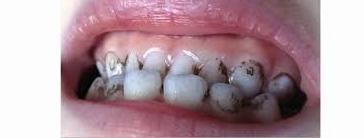Calculus: (223, 54, 260, 90), (209, 79, 243, 116), (194, 58, 227, 94), (245, 91, 277, 121), (100, 73, 123, 99)
